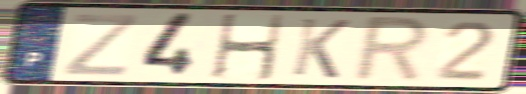2: (433, 19, 497, 83)
4: (139, 10, 203, 82)
H: (209, 12, 288, 82)
K: (288, 16, 353, 81)
R: (349, 14, 435, 85)
Z: (60, 12, 140, 77)
